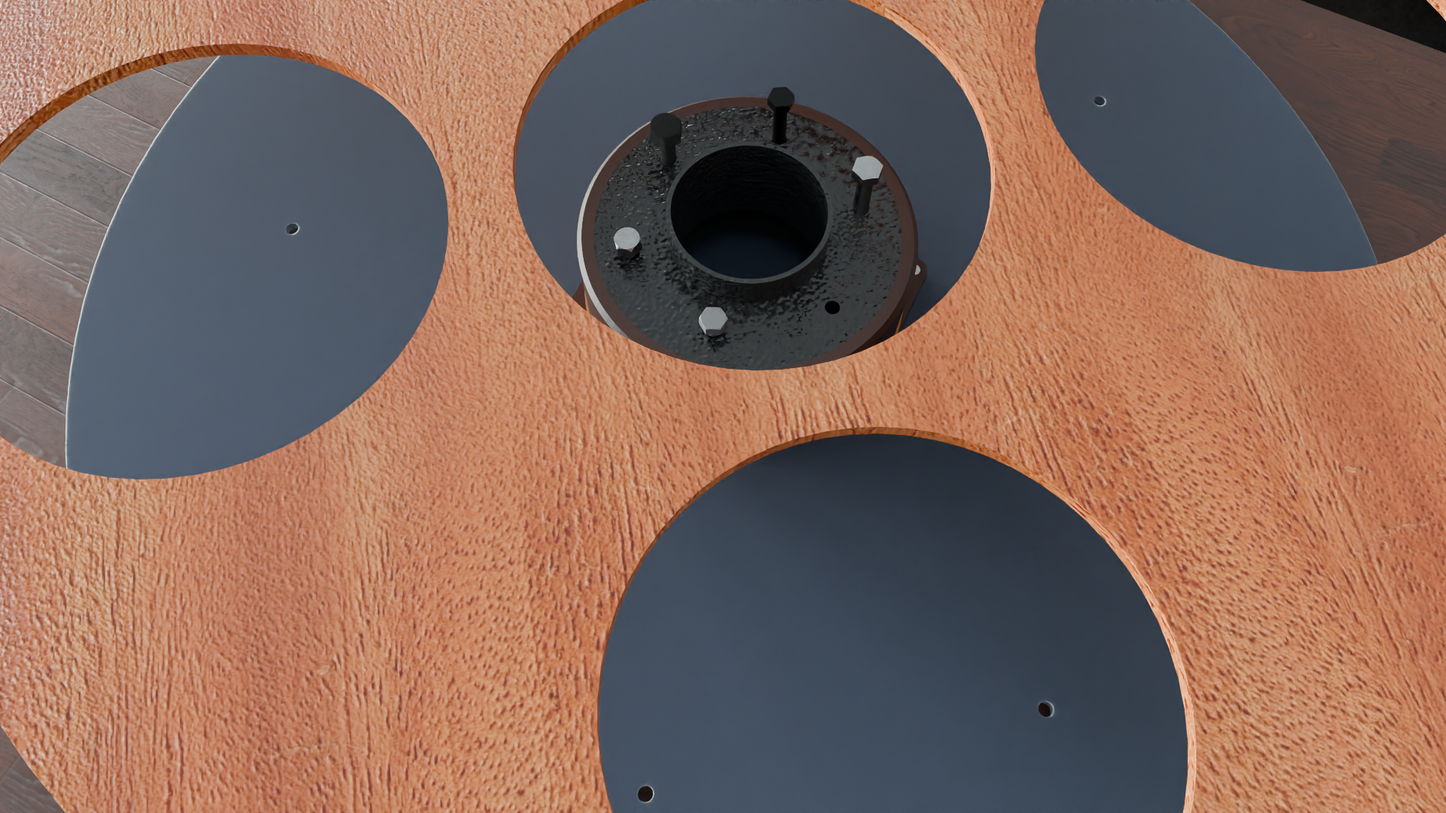bolt: (650, 113, 682, 141), (853, 156, 883, 180), (613, 227, 642, 251), (699, 307, 728, 330), (767, 87, 795, 107)
